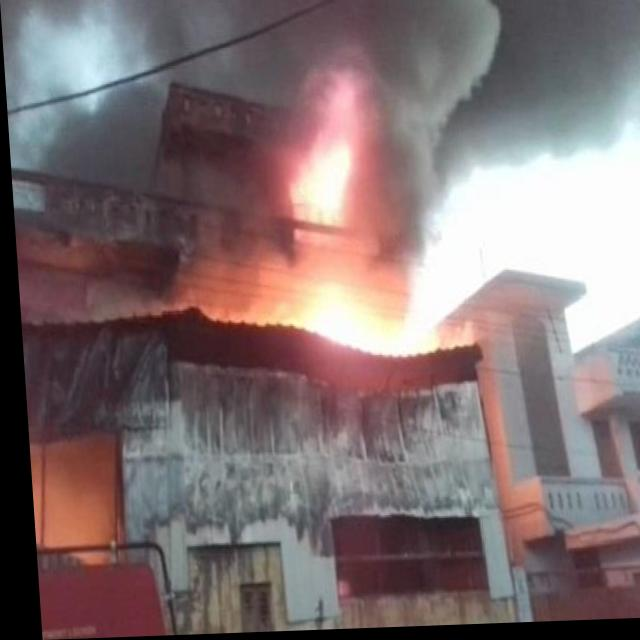fire: (257, 264, 435, 370), (272, 74, 374, 240)
